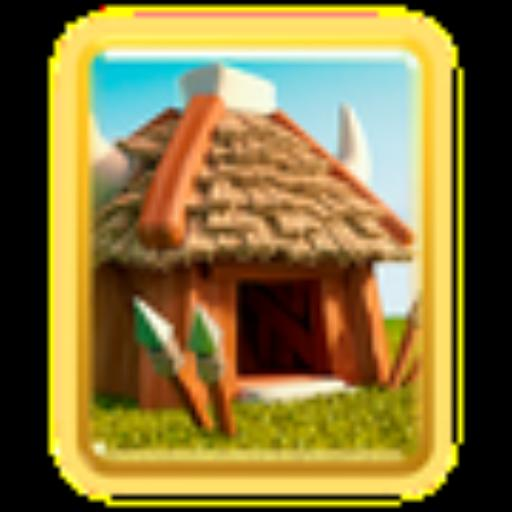goblin-hut: (76, 57, 430, 461)
